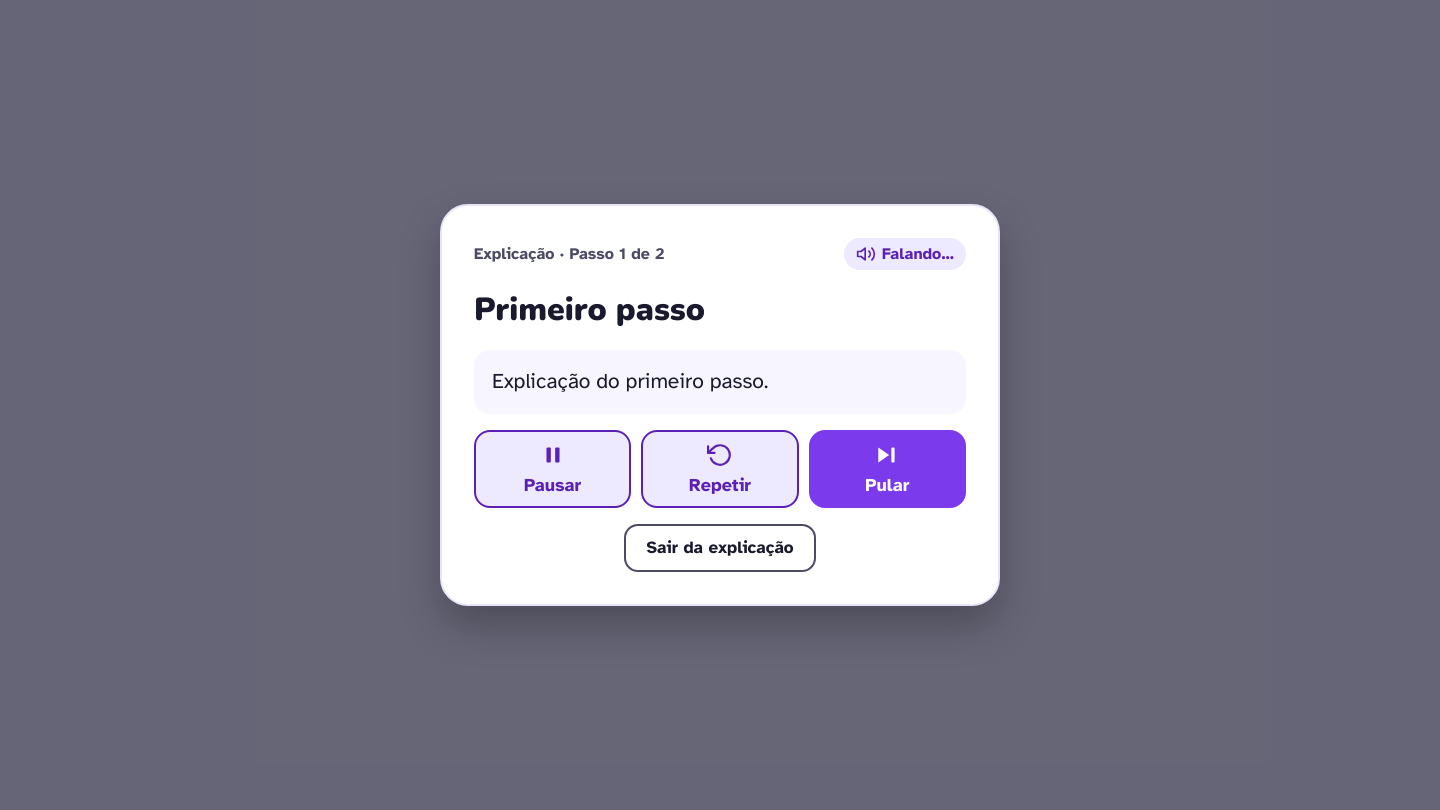
Componente TourAudio (US13) › tem controles grandes de pausar, repetir e pular
Click the button "Pausar".
click(553, 469)  # box [474,430,631,508]
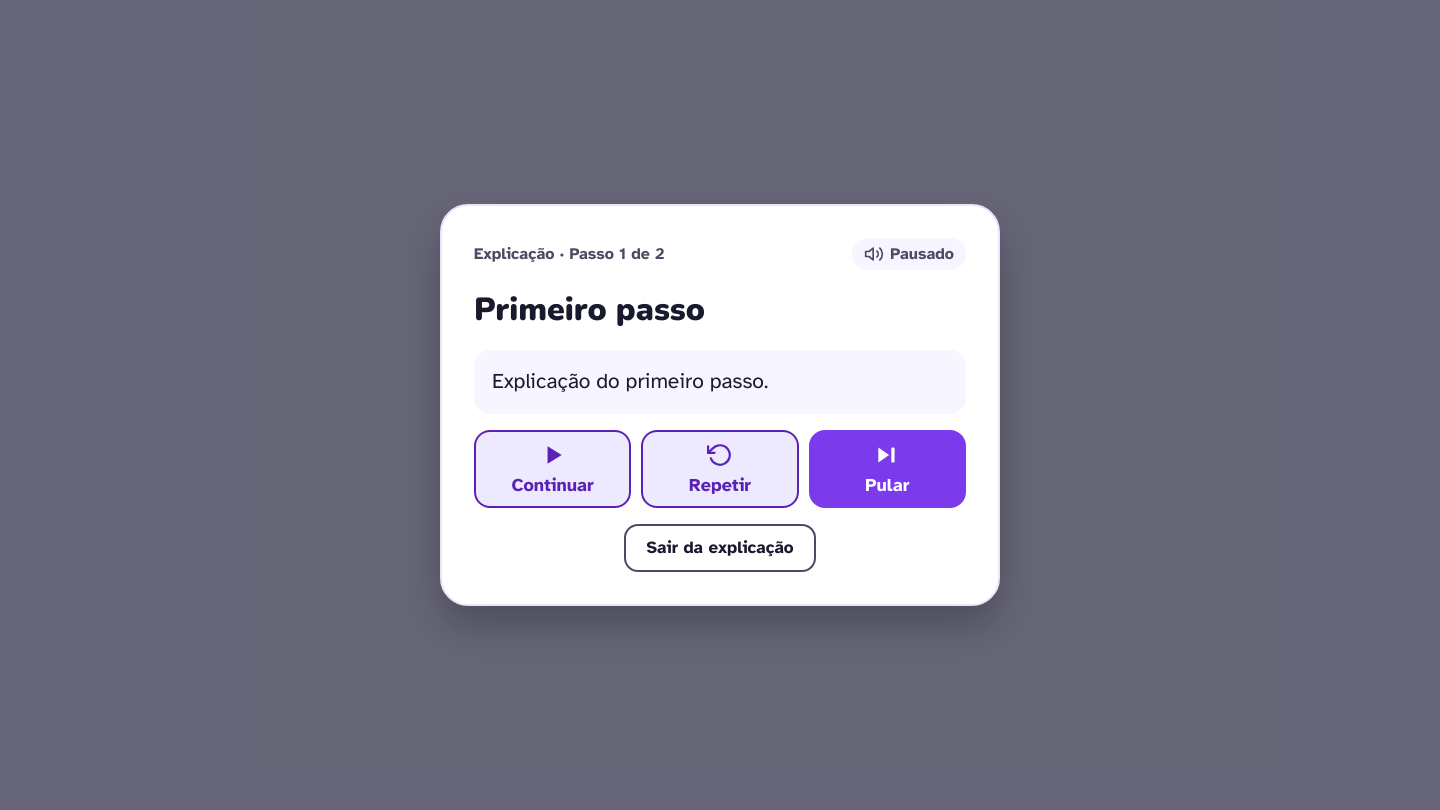
expect the button "Continuar" is shown: met, box [474,430,631,508]
Click the button "Repetir".
click(720, 469)  # box [641,430,799,508]
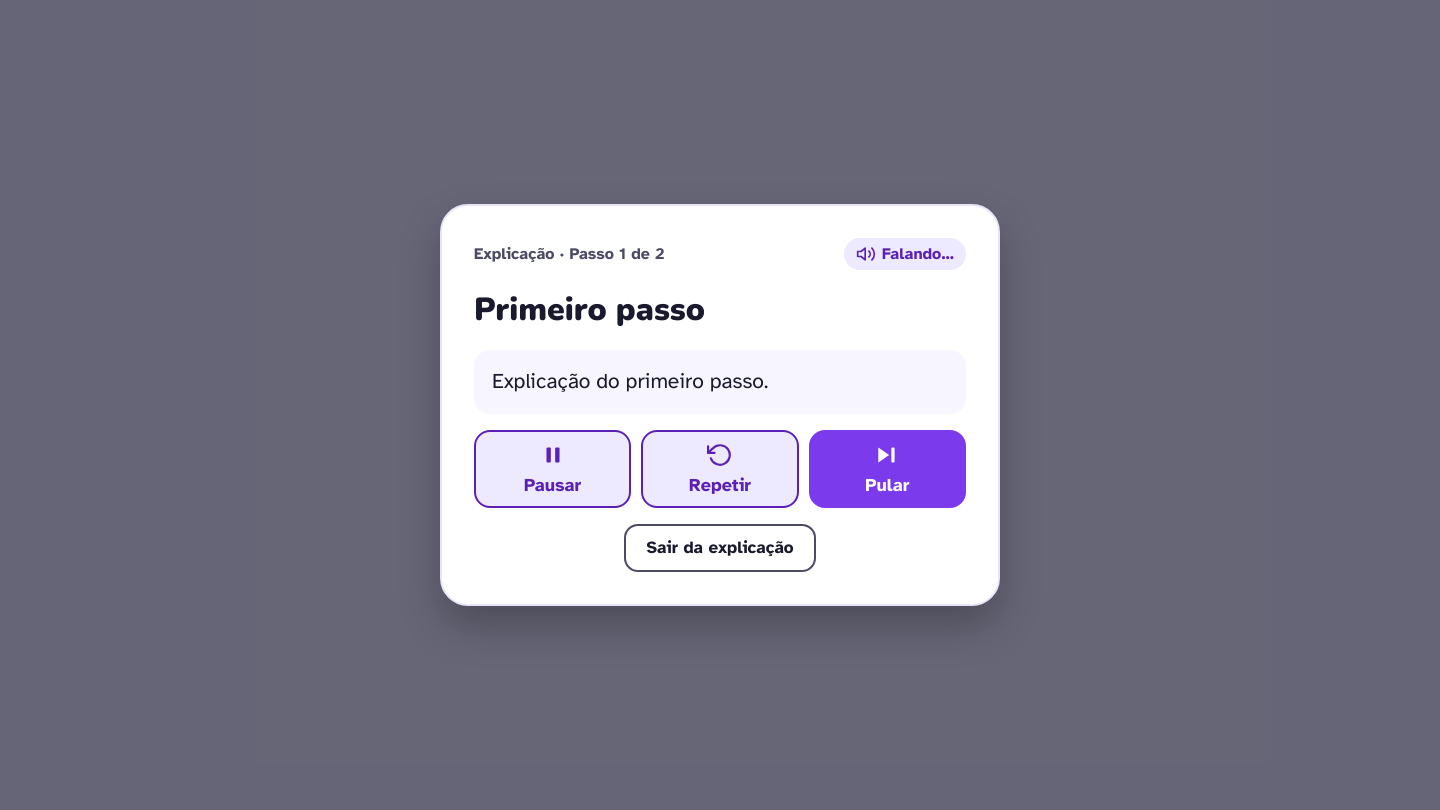
expect the text "Explicação do primeiro passo." is shown: met, box [474,350,966,414]
Click the button "Pular".
click(887, 469)  # box [809,430,966,508]
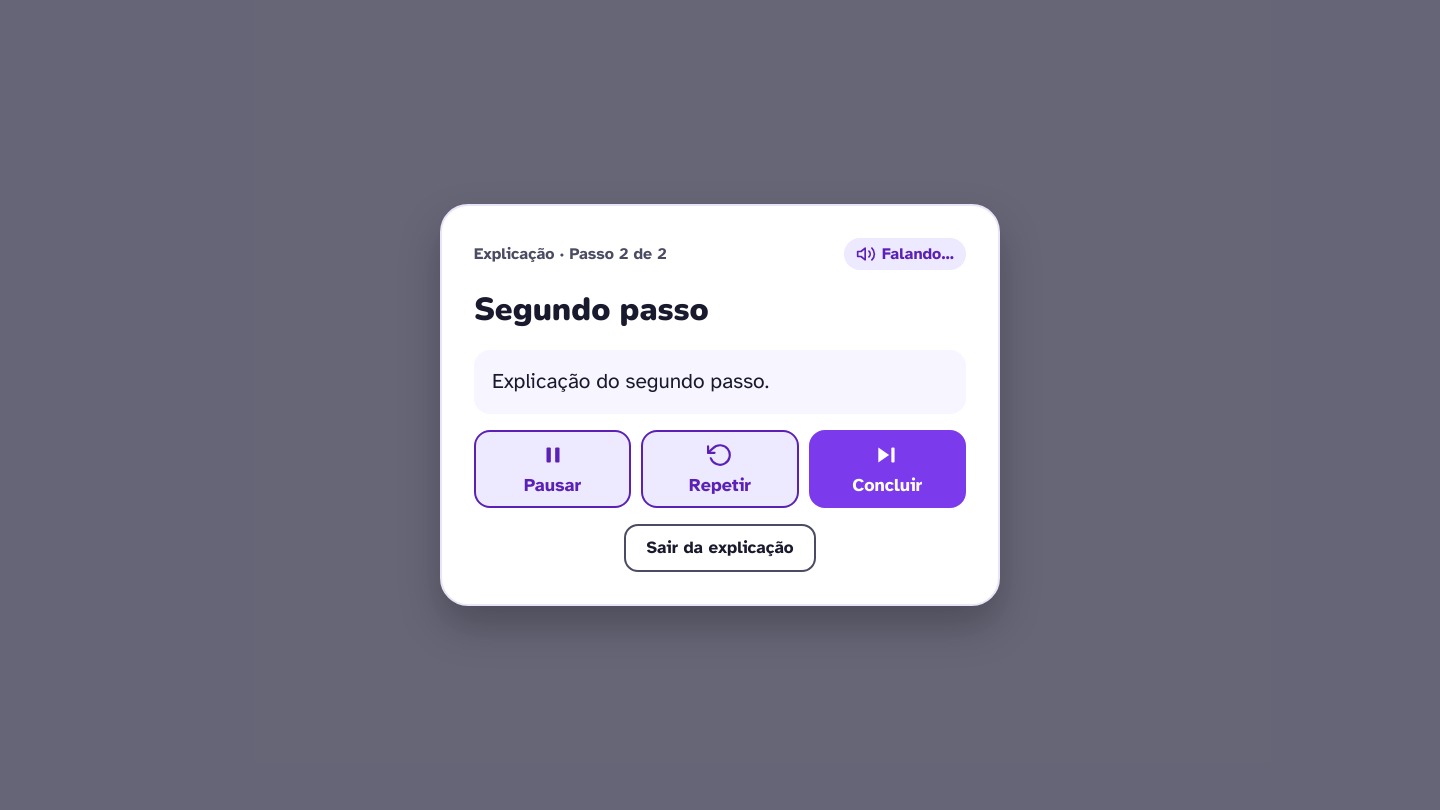
expect the text "Explicação do segundo passo." is shown: met, box [474,350,966,414]
